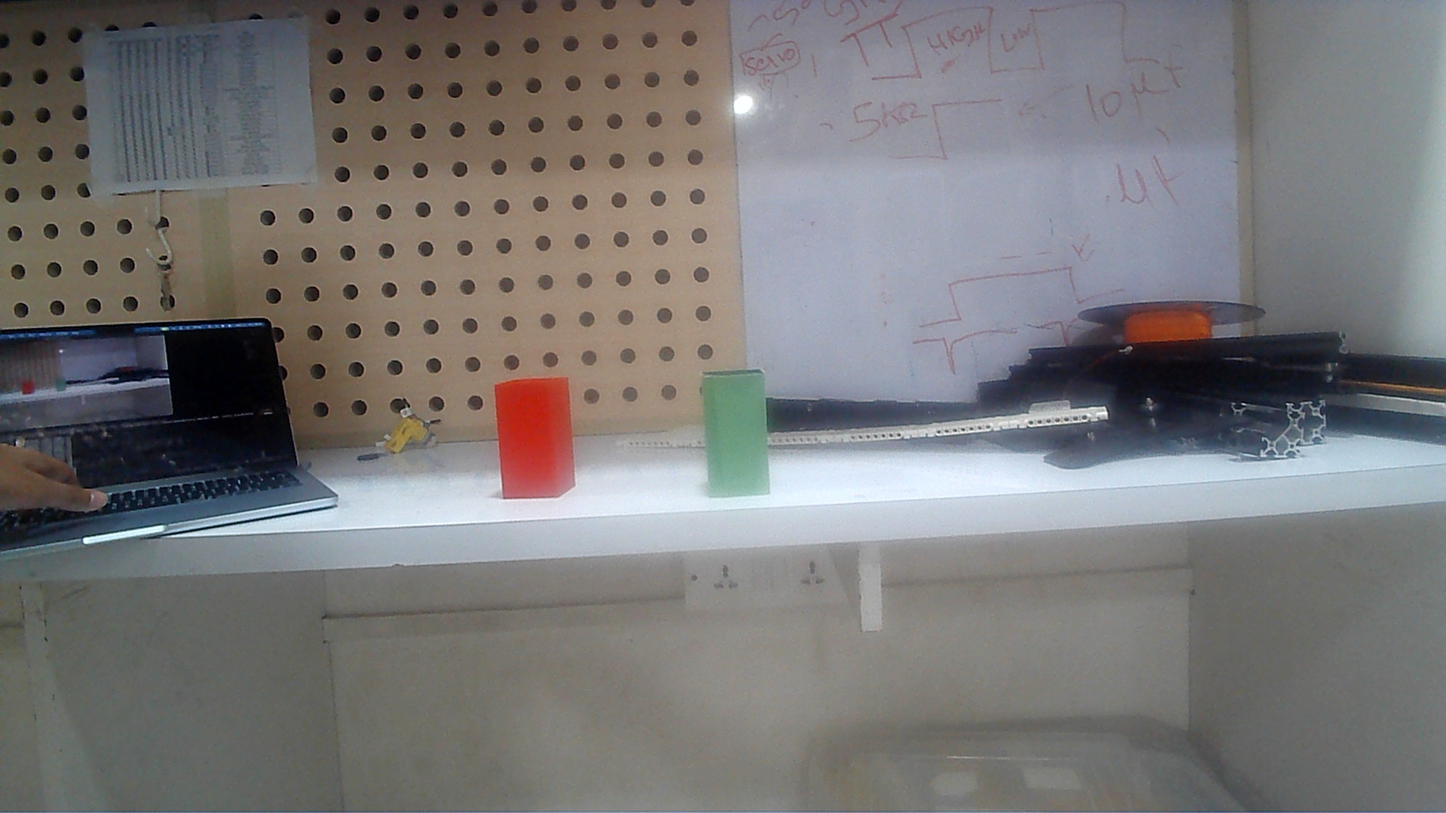red: (496, 377, 569, 501)
